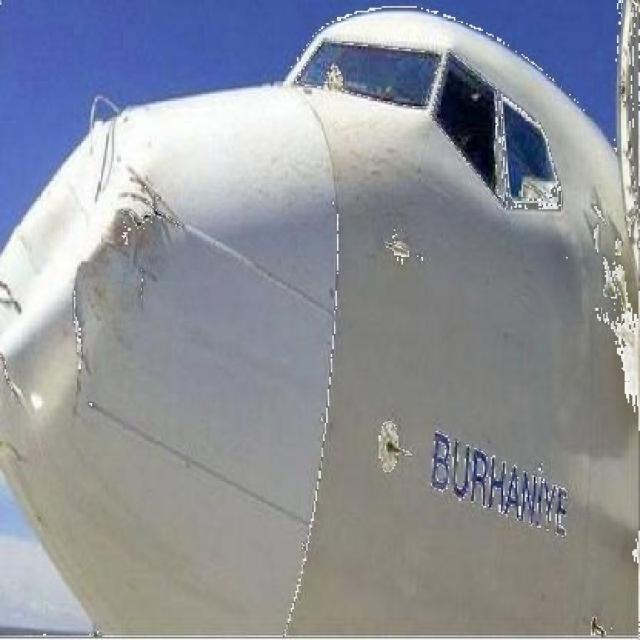dent: (2, 91, 151, 382)
